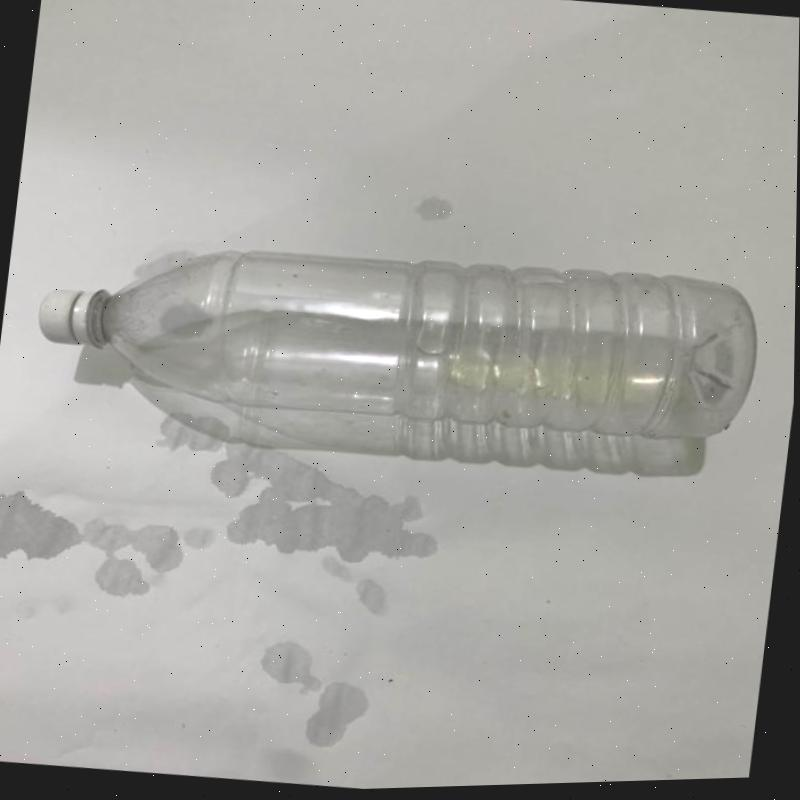botella: (32, 213, 757, 468)
